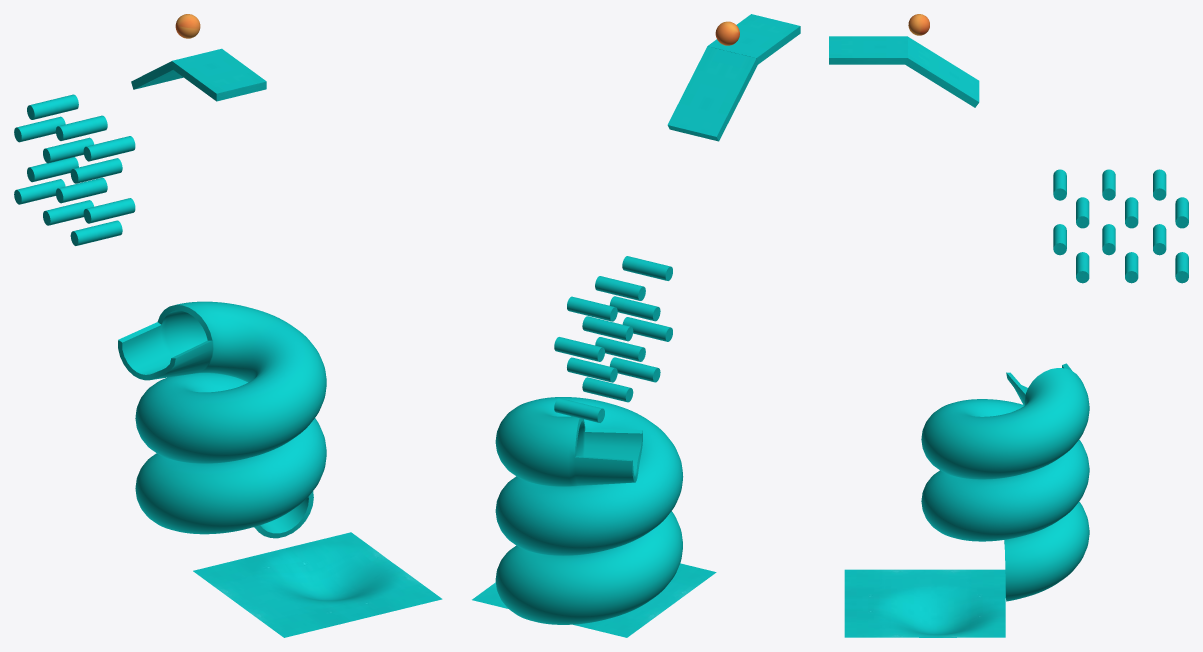
3 views of the same model, side by side, from view 1: azimuth 30°, elevation 25°; view 2: azimuth 150°, elevation 25°; view 3: azimuth 270°, elevation 25° (orthographic). The views are drawn at different scales.
Parts seen in each view (by area): view 1: pHelix2, pPlane1, group4, pCube2; view 2: pHelix2, group4, pCube2, pPlane1, pSphere2; view 3: pHelix2, pPlane1, group4, pCube2.
Part boxes in pixels (<box>): pHelix2: <box>118,301,326,538</box>; pPlane1: <box>193,532,442,637</box>; group4: <box>14,94,135,245</box>; pCube2: <box>131,48,266,101</box>; pHelix2: <box>495,397,683,624</box>; group4: <box>554,256,672,422</box>; pCube2: <box>667,14,800,141</box>; pPlane1: <box>472,563,716,637</box>; pSphere2: <box>715,21,739,45</box>; pHelix2: <box>921,363,1089,601</box>; pPlane1: <box>844,569,1005,637</box>; group4: <box>1053,169,1188,283</box>; pCube2: <box>829,36,979,107</box>.
Bounding box in the file's own units: 0.0469 × 0.1191 × 0.0707.
Materials: 3 (3 with a texture image).
